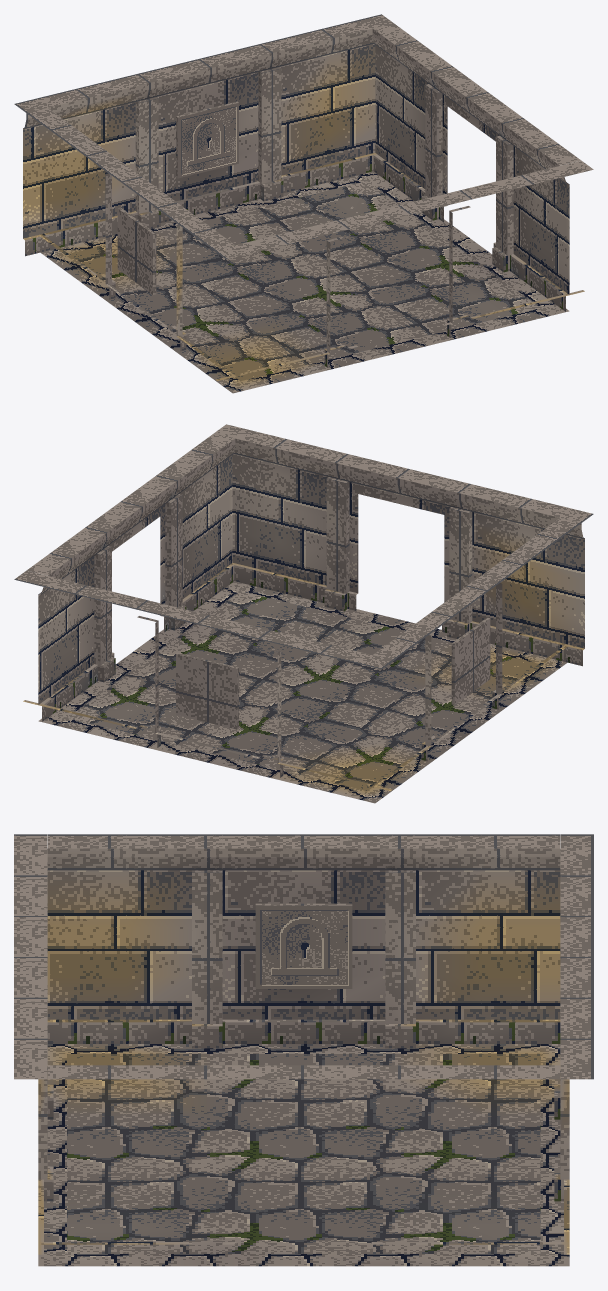
The model's file is dgn.room__entry.glb.
3 views of the same model, one above another, from view 1: azimuth 30°, elevation 25°; view 2: azimuth 150°, elevation 25°; view 3: azimuth 270°, elevation 25° (orthographic). The views are drawn at different scales.
Parts seen in each view (by area): view 1: kit_shell_walls, kit_shell_floor, kit_reliefs; view 2: kit_shell_walls, kit_shell_floor, kit_reliefs; view 3: kit_shell_walls, kit_shell_floor, kit_reliefs.
Part boxes in pixels (left/top/right/bottom): kit_shell_walls: left=14, top=14, right=593, bottom=380; kit_shell_floor: left=40, top=171, right=569, bottom=393; kit_reliefs: left=117, top=101, right=238, bottom=294; kit_shell_walls: left=14, top=424, right=593, bottom=790; kit_shell_floor: left=38, top=581, right=567, bottom=803; kit_reliefs: left=176, top=617, right=490, bottom=729; kit_shell_walls: left=14, top=834, right=593, bottom=1254; kit_shell_floor: left=38, top=1044, right=569, bottom=1266; kit_reliefs: left=255, top=903, right=352, bottom=988.
Size of the model in its own units: 12 by 4.5 by 12.
6 materials, 6 textured.
